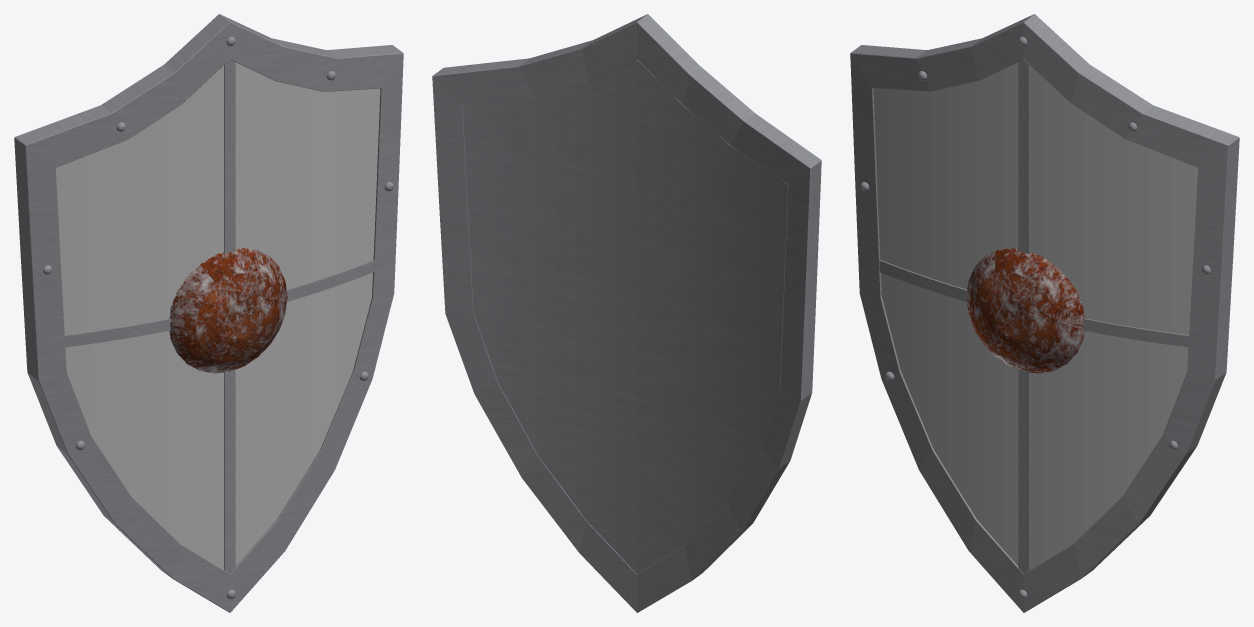
The model's file is escudo.glb.
3 renders of one model, left to right at view 1: azimuth 30°, elevation 25°; view 2: azimuth 150°, elevation 25°; view 3: azimuth 330°, elevation 25°, orthographic.
Visible parts, largest first — view 1: Borde_exterior, Cuadrante_Superior_Izquierdo, Cuadrante_Superior_Derecho, Cuadrante_Inferior_Izquierdo, Cuadrante_Inferior_Derecho, Protector_central, Cruz_central; view 2: Parte_posterior, Borde_exterior; view 3: Borde_exterior, Cuadrante_Superior_Derecho, Cuadrante_Superior_Izquierdo, Cuadrante_Inferior_Derecho, Cuadrante_Inferior_Izquierdo, Protector_central, Cruz_central.
Boxes of the visible parts, <box> form: Borde_exterior: <box>14,14,403,612</box>; Cuadrante_Superior_Izquierdo: <box>55,65,223,335</box>; Cuadrante_Superior_Derecho: <box>235,62,380,289</box>; Cuadrante_Inferior_Izquierdo: <box>65,331,223,569</box>; Cuadrante_Inferior_Derecho: <box>235,272,372,565</box>; Protector_central: <box>169,248,287,373</box>; Cruz_central: <box>64,59,374,573</box>; Parte_posterior: <box>462,59,788,573</box>; Borde_exterior: <box>432,14,821,612</box>; Borde_exterior: <box>850,14,1239,612</box>; Cuadrante_Superior_Derecho: <box>1030,65,1198,335</box>; Cuadrante_Superior_Izquierdo: <box>873,62,1018,289</box>; Cuadrante_Inferior_Derecho: <box>1030,331,1188,569</box>; Cuadrante_Inferior_Izquierdo: <box>881,272,1018,565</box>; Protector_central: <box>966,248,1084,373</box>; Cruz_central: <box>879,59,1189,573</box>.
Bounding box in the file's own units: 1.34 × 2 × 0.2309.
Materials: 4 (4 with a texture image).
